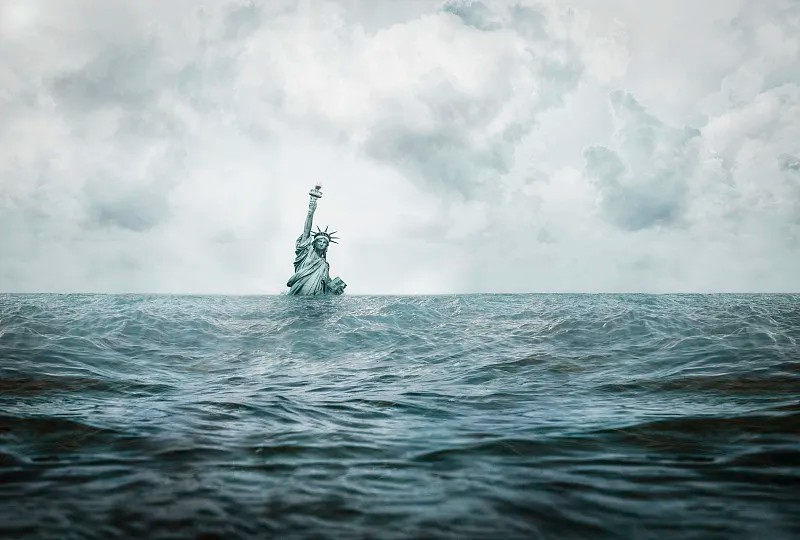SL: (286, 182, 347, 296)
